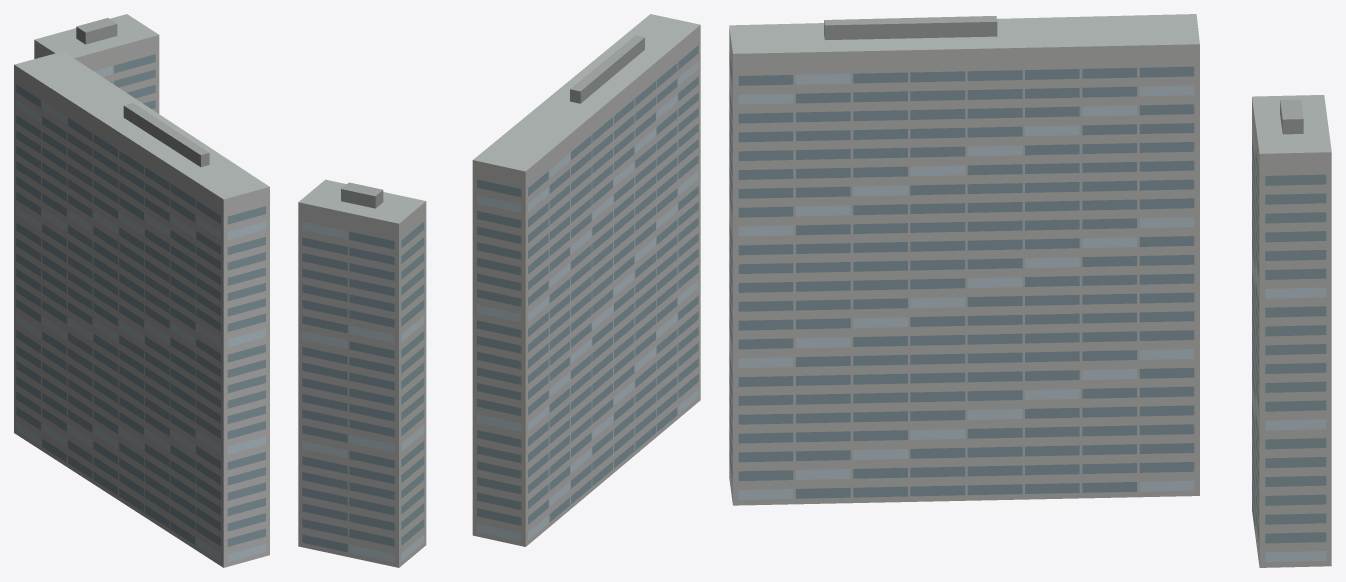
Rendered from apt-a15081201.glb.
3 views of the same model, side by side, from view 1: azimuth 30°, elevation 25°; view 2: azimuth 150°, elevation 25°; view 3: azimuth 270°, elevation 25° (orthographic). The views are drawn at different scales.
Visible parts, largest first — view 1: apt-a15081201; view 2: apt-a15081201; view 3: apt-a15081201.
Part boxes in pixels (x1,y1,x2,y2): apt-a15081201: [14, 14, 269, 567]; apt-a15081201: [298, 14, 700, 567]; apt-a15081201: [729, 14, 1331, 567].
Size of the model in its own units: 35.53 by 75.6 by 88.5.
